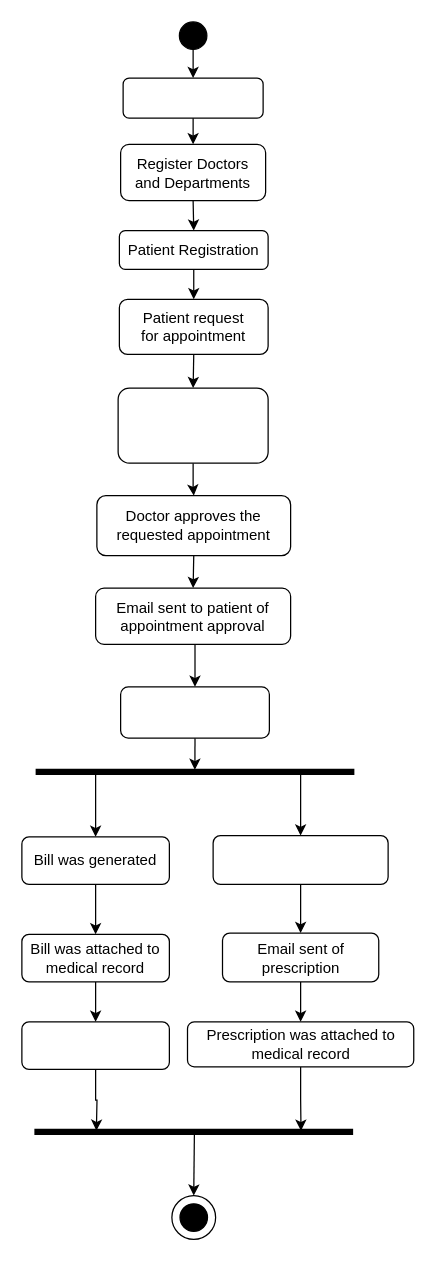
Some shapes in this 436 by 1261 pixel diagram are drawn without their labels. The shapes that lost their labels are listed below. From the top down, each one's box as (x1, y1, x2, y2) in pixels, then its label:
(122, 77, 263, 118): Register Admin
(117, 387, 268, 463): Medical record was generated for this appointment
(119, 686, 269, 738): The appointment gets completed
(212, 834, 388, 884): Prescription generated
(21, 1021, 169, 1069): Bill was paid by patient
